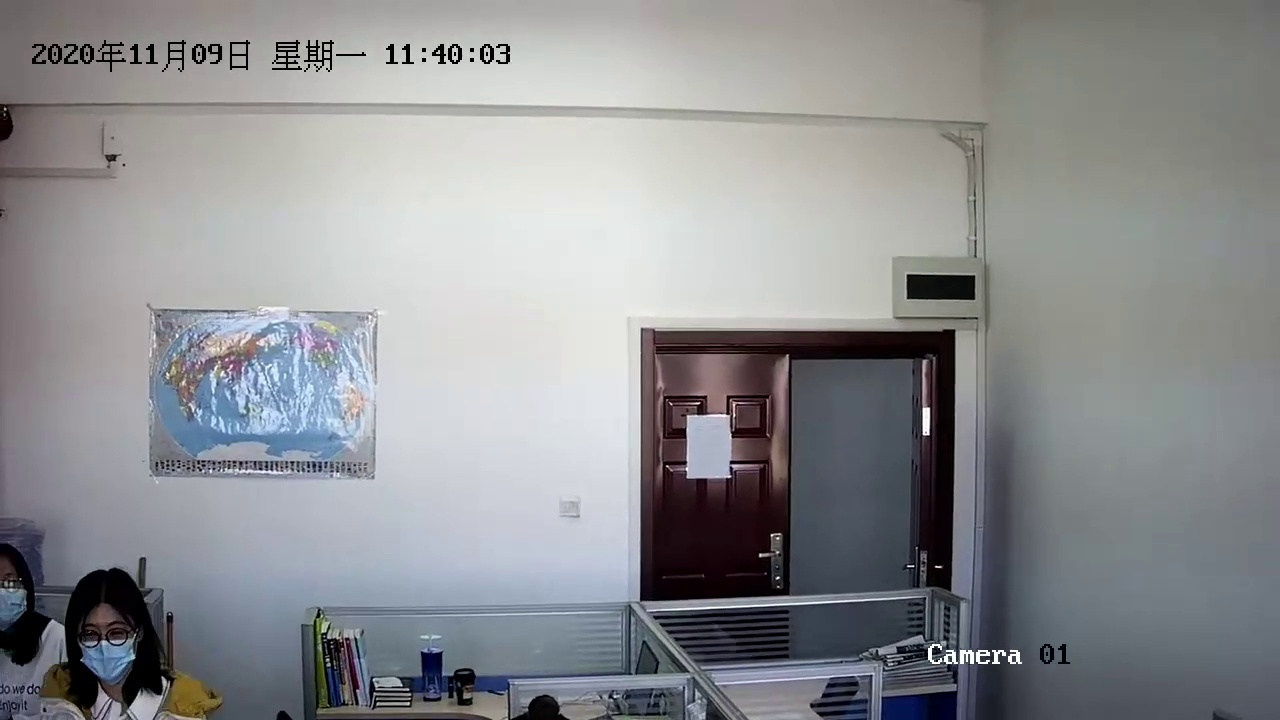mask: (80, 579, 150, 680), (0, 547, 32, 633)
